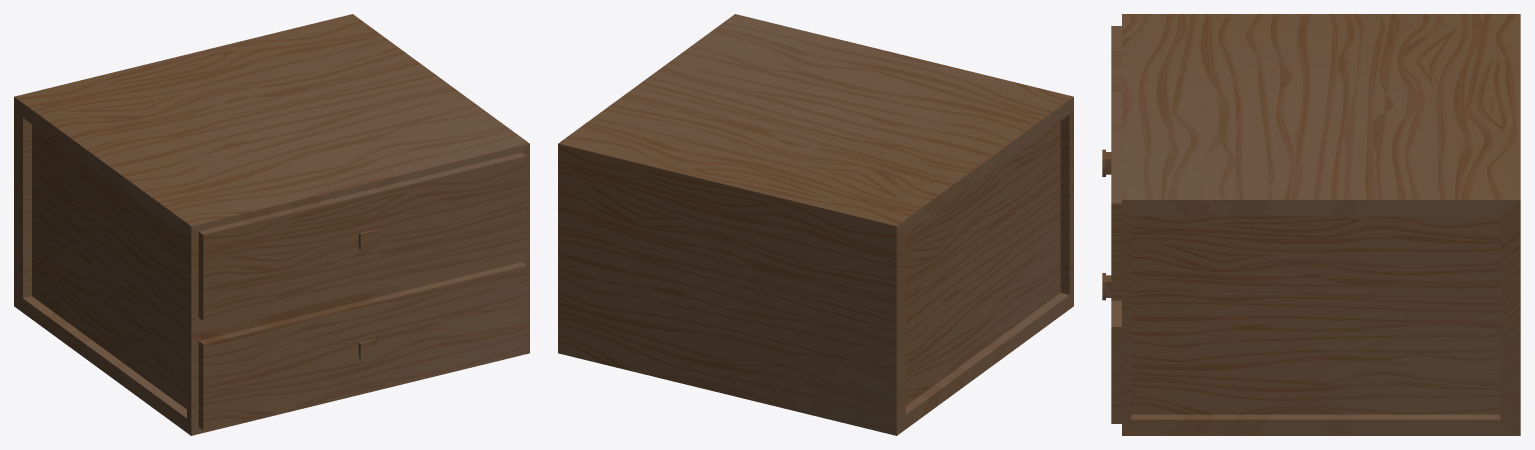
The model's file is Mueble 1.fbx.
3 views of the same model, side by side, from view 1: azimuth 30°, elevation 25°; view 2: azimuth 150°, elevation 25°; view 3: azimuth 270°, elevation 25° (orthographic). The views are drawn at different scales.
Visible parts, largest first — view 1: Mueble; view 2: Mueble; view 3: Mueble.
Boxes of the visible parts, x1,y1,x2,y2 form: Mueble: (14, 14, 529, 435); Mueble: (558, 14, 1073, 435); Mueble: (1102, 14, 1520, 435).
Bounding box in the file's own units: 117 × 69.44 × 112.
